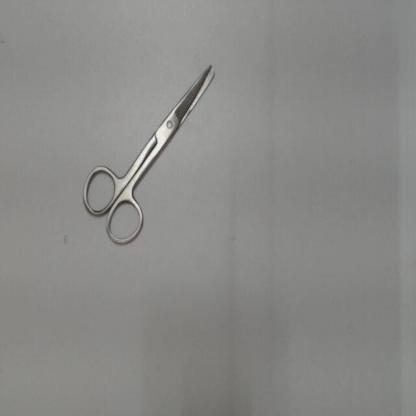Dressing Scissors: (77, 52, 224, 255)
